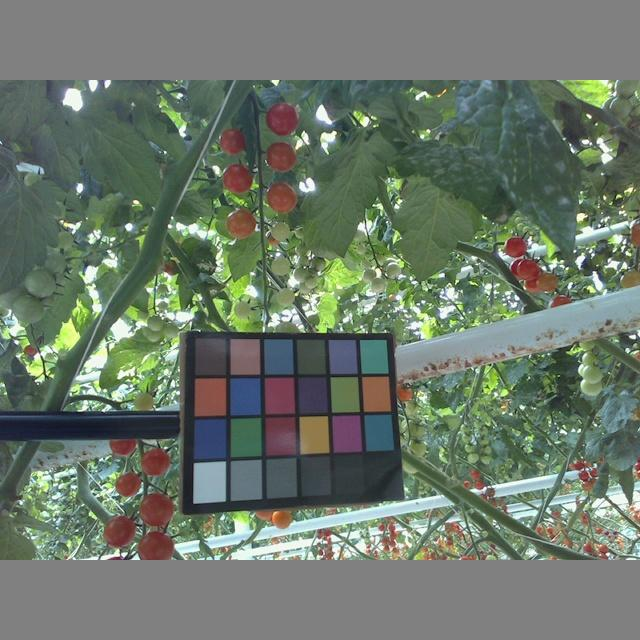green: (576, 383, 612, 397), (576, 364, 606, 380), (581, 351, 597, 364), (578, 340, 593, 350)
pink: (265, 101, 301, 137), (138, 491, 175, 523), (138, 530, 176, 560), (102, 515, 136, 548), (270, 184, 304, 213), (223, 164, 255, 194), (227, 209, 259, 239), (265, 140, 296, 168), (138, 450, 170, 474), (218, 127, 245, 154), (115, 472, 142, 495), (541, 271, 560, 290), (632, 226, 640, 252), (525, 280, 537, 288)
red: (509, 257, 539, 278), (505, 233, 527, 258)
